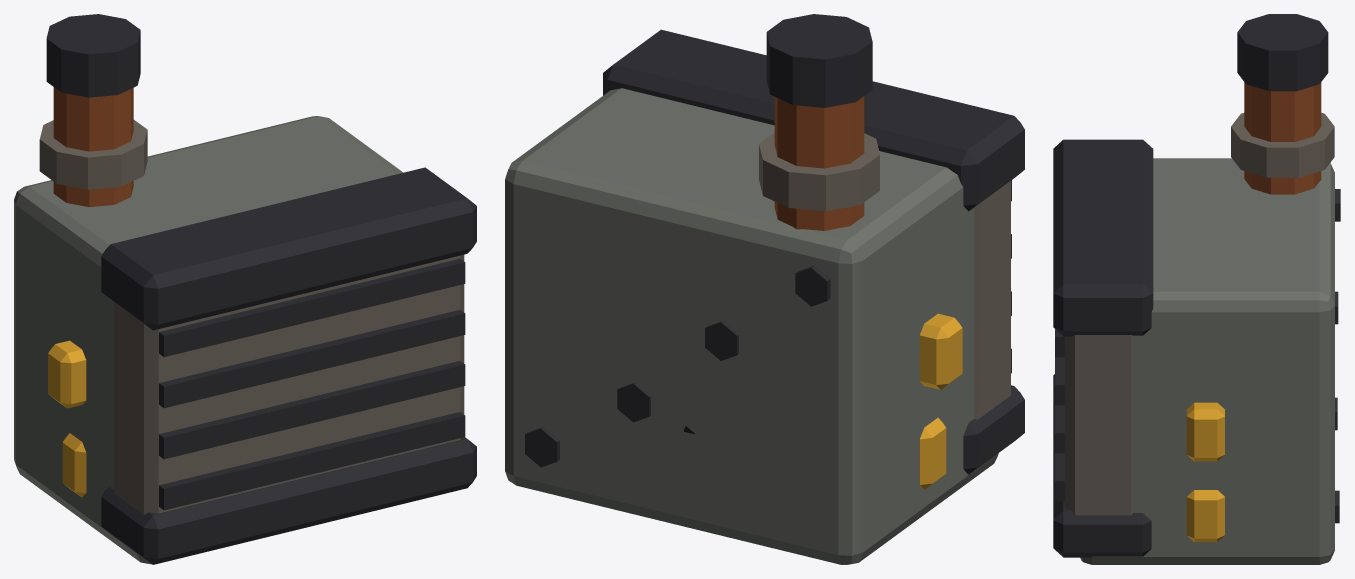
Rendered from mo_capacitor.glb.
3 renders of one model, left to right at view 1: azimuth 30°, elevation 25°; view 2: azimuth 150°, elevation 25°; view 3: azimuth 270°, elevation 25°, orthographic. The views are drawn at different scales.
Parts seen in each view (by area): view 1: mo_capacitor; view 2: mo_capacitor; view 3: mo_capacitor.
Part boxes in pixels (left/top/right/bottom): mo_capacitor: left=14, top=14, right=476, bottom=564; mo_capacitor: left=505, top=14, right=1024, bottom=564; mo_capacitor: left=1053, top=14, right=1340, bottom=564.
Bounding box in the file's own units: 0.1317 × 0.1552 × 0.0964.
